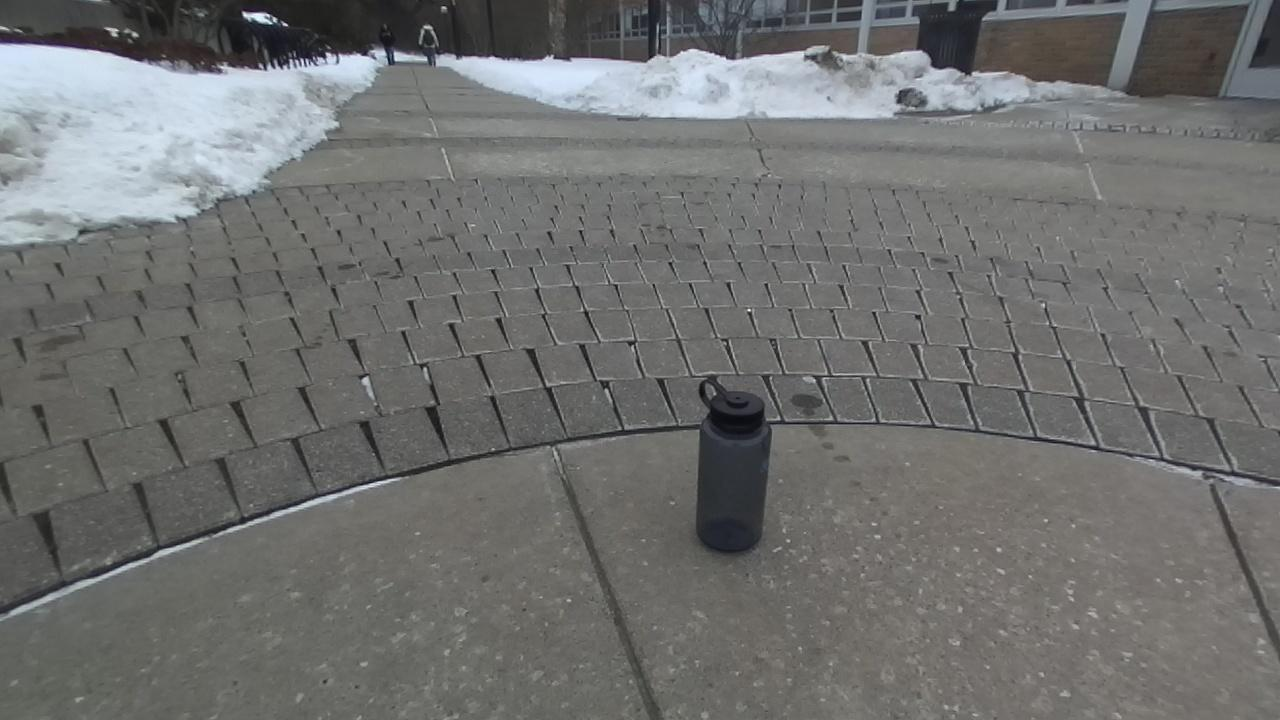bottle: (697, 376, 771, 550)
